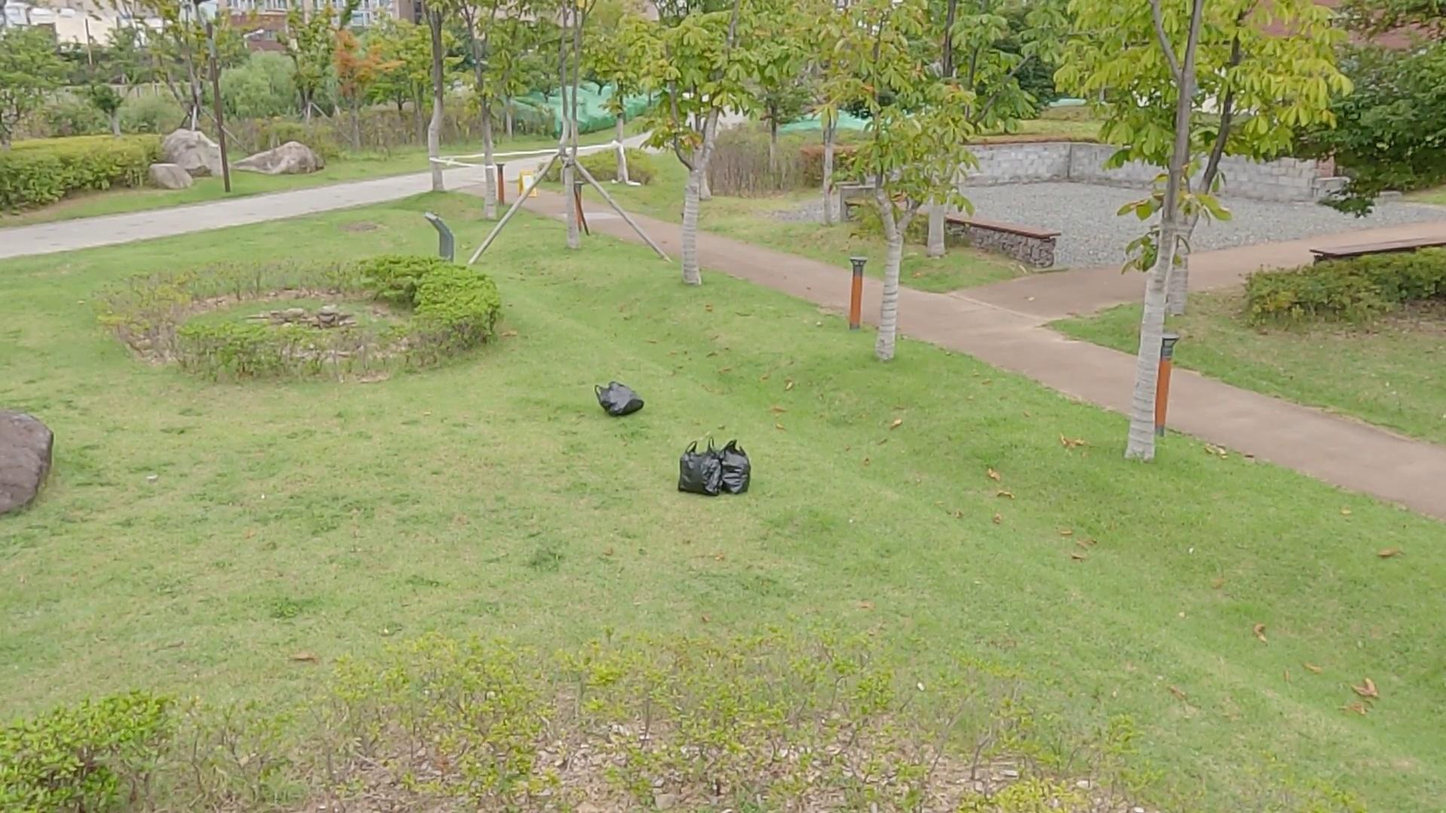trash: (677, 441, 723, 497), (708, 439, 753, 494), (592, 379, 645, 415)
